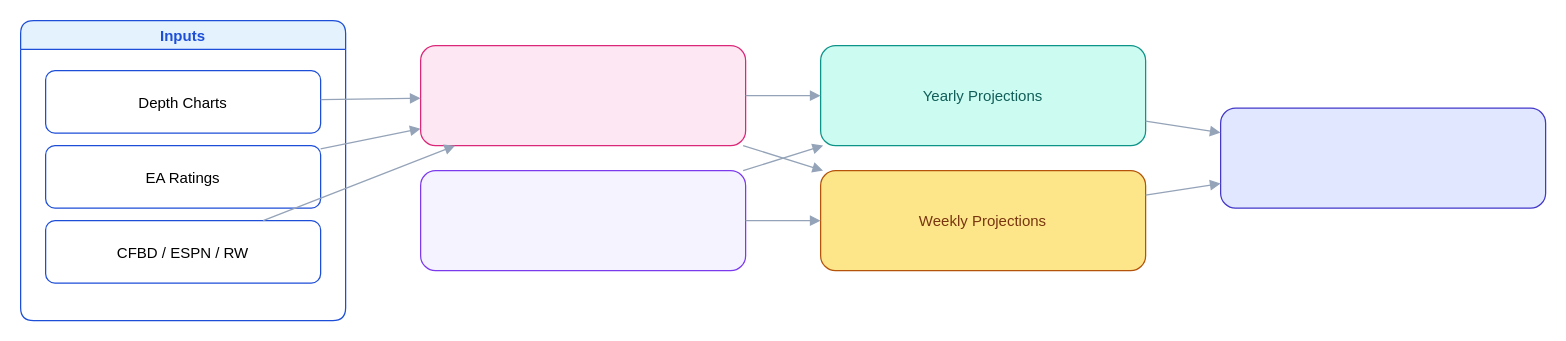
The diagram is 1566 pixels wide and 341 high, and some of its shapes have lost their labels. Here are the shapes that lost their labels. From the top down, the centre of each, then its label:
At point 582,95: "Feature Engineering".
At point 1382,157: "Persist + Version".
At point 582,220: "Weights (model_versions)".
